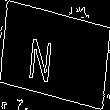N_N: (41, 27, 69, 83)
